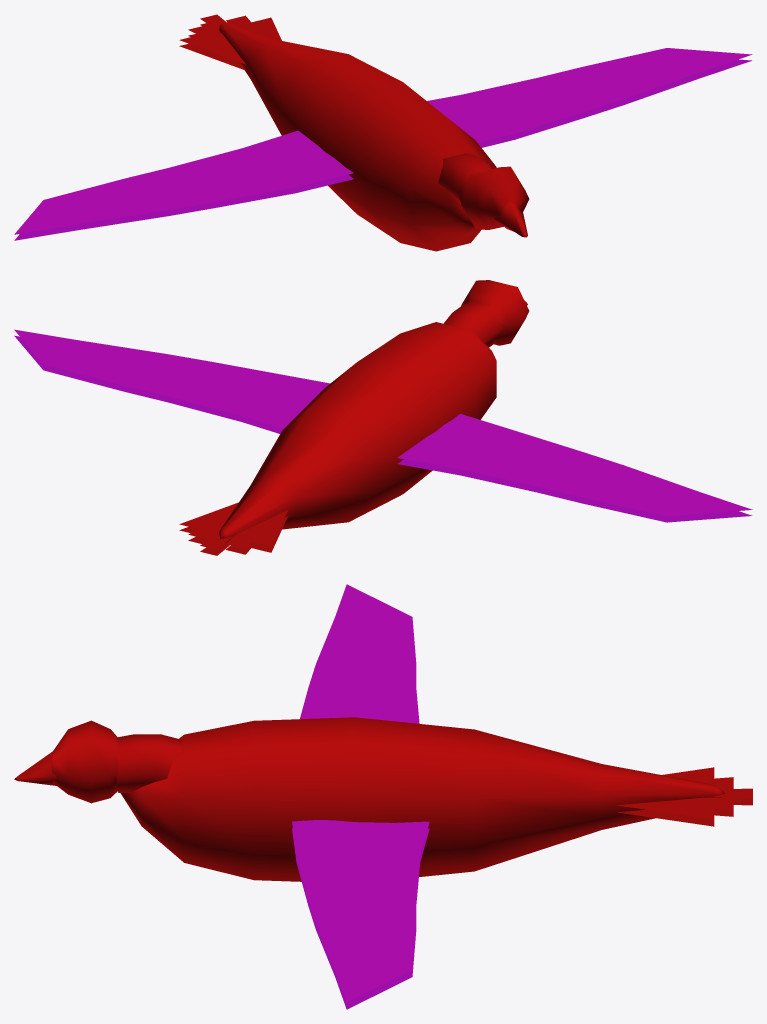
The model's file is shag.glb.
3 views of the same model, one above another, from view 1: azimuth 30°, elevation 25°; view 2: azimuth 150°, elevation 25°; view 3: azimuth 270°, elevation 25° (orthographic). The views are drawn at different scales.
Visible parts, largest first — view 1: bird; view 2: bird; view 3: bird.
Boxes of the visible parts, bbox=[...] form: bird: bbox=[14, 14, 752, 251]; bird: bbox=[14, 280, 752, 555]; bird: bbox=[14, 584, 752, 1009].
Bounding box in the file's own units: 1 × 0.1562 × 0.7461.
